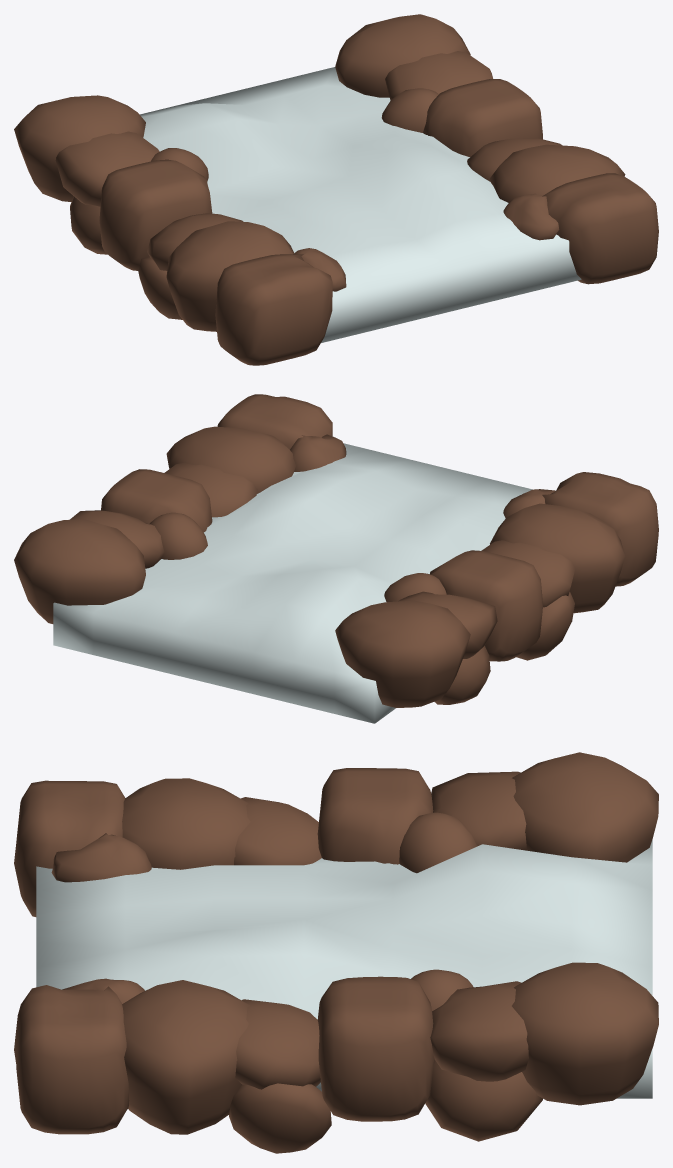
Rendered from snowline2.fbx.
The picture shows the model from 3 angles, top to bottom: view 1: azimuth 30°, elevation 25°; view 2: azimuth 150°, elevation 25°; view 3: azimuth 270°, elevation 25°; orthographic projection. The views are drawn at different scales.
Parts seen in each view (by area): view 1: Sphere.004; view 2: Sphere.004; view 3: Sphere.004.
Part boxes in pixels (<box>): Sphere.004: <box>14,14,658,365</box>; Sphere.004: <box>14,394,658,723</box>; Sphere.004: <box>14,752,658,1153</box>.
Bounding box in the file's own units: 1.9 × 0.5188 × 1.81.
